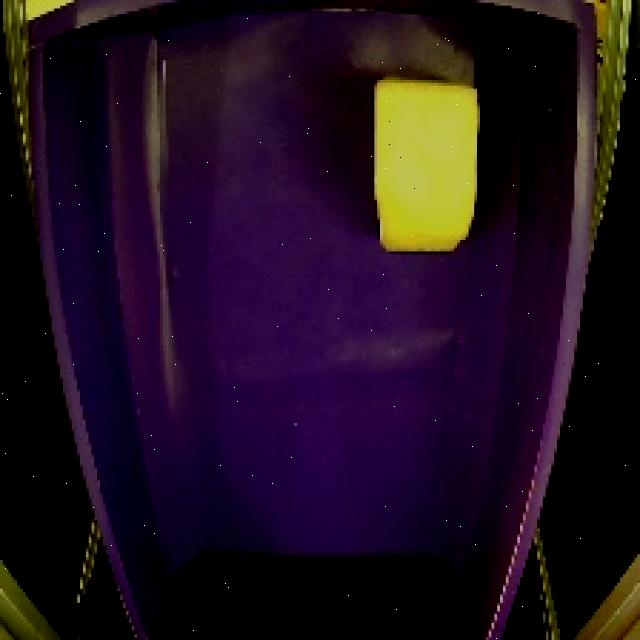potato: (355, 63, 496, 267)
